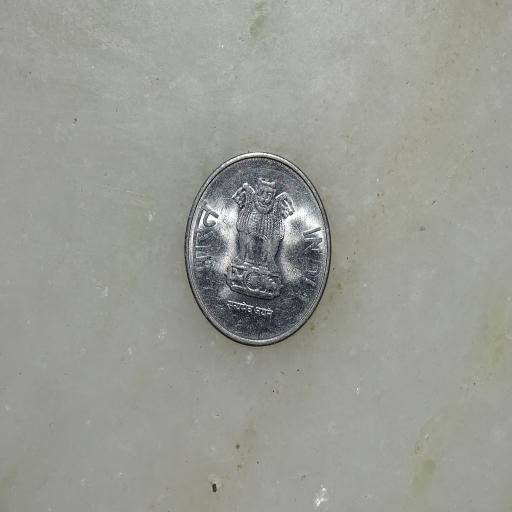rupee2: (178, 148, 335, 350)
